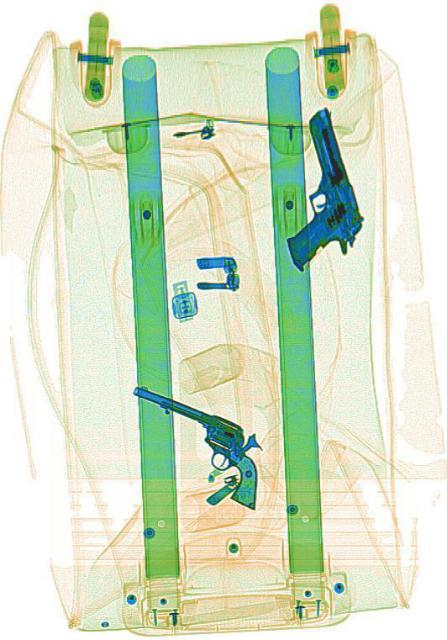Gun: (254, 103, 369, 279), (116, 379, 271, 508)
